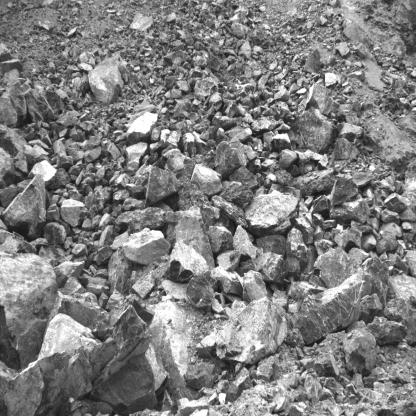stone: (4, 312, 103, 416), (0, 230, 57, 370), (195, 298, 288, 365), (295, 273, 365, 344), (99, 299, 156, 376), (166, 206, 215, 271), (3, 174, 46, 240), (313, 248, 371, 296), (243, 190, 300, 237), (86, 52, 124, 102), (121, 228, 171, 265), (291, 108, 335, 150), (165, 243, 210, 282), (215, 137, 257, 178), (343, 329, 377, 376), (145, 166, 180, 208), (0, 79, 27, 129), (29, 159, 72, 190), (365, 316, 408, 346), (24, 88, 59, 124), (329, 197, 370, 227), (190, 163, 224, 197), (186, 275, 218, 311), (126, 112, 159, 145), (258, 253, 289, 285), (305, 83, 334, 116), (286, 228, 309, 269), (376, 222, 403, 255), (328, 179, 358, 206), (358, 293, 383, 325), (243, 270, 267, 303), (207, 226, 234, 255), (60, 198, 86, 226), (132, 269, 156, 299), (333, 227, 362, 251), (384, 296, 410, 322), (125, 142, 149, 170), (330, 138, 360, 160), (0, 147, 16, 188), (257, 233, 285, 256), (44, 221, 66, 245), (216, 250, 241, 271), (250, 115, 279, 133), (384, 193, 410, 213), (22, 145, 49, 164), (338, 123, 364, 142), (269, 133, 293, 153), (303, 48, 321, 74), (179, 133, 196, 158), (278, 149, 297, 170), (210, 116, 235, 130), (99, 225, 114, 248), (125, 183, 145, 200), (312, 194, 329, 214), (84, 146, 102, 164), (55, 114, 79, 127), (0, 59, 23, 72), (66, 147, 85, 162), (149, 139, 166, 155), (98, 245, 113, 263), (56, 153, 73, 168), (114, 174, 131, 189), (112, 189, 129, 204), (71, 243, 88, 257), (324, 72, 338, 89), (273, 89, 291, 102), (0, 43, 13, 61), (337, 42, 350, 59), (76, 121, 94, 133), (357, 43, 368, 58), (207, 126, 217, 141), (82, 218, 92, 231), (275, 124, 291, 131)
